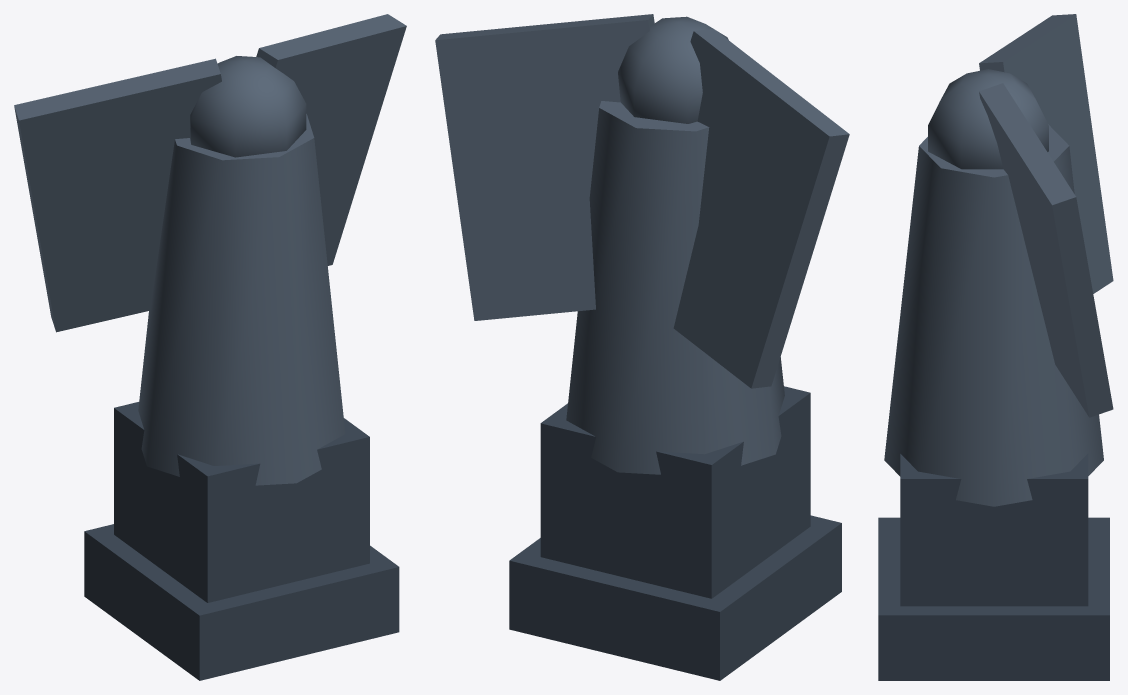
Rendered from angel_statue.glb.
The picture shows the model from 3 angles, left to right: view 1: azimuth 30°, elevation 25°; view 2: azimuth 150°, elevation 25°; view 3: azimuth 270°, elevation 25°; orthographic projection. The views are drawn at different scales.
Size of the model in its own units: 1.55 by 2.13 by 0.8126.
